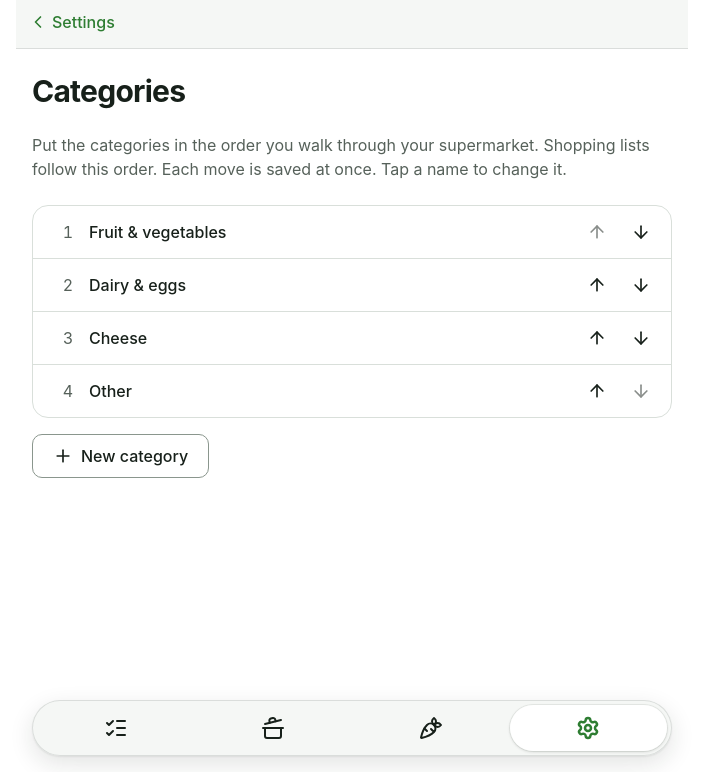
Test: AdminCategoriesScreen › puts the order back and says why when saving fails
The image size is (705, 772).
Check: the list with test id "admin-category-list" is shown, box [32, 205, 672, 418]
Click the button named "Move Other up" at point(597, 391), box [575, 369, 619, 413]
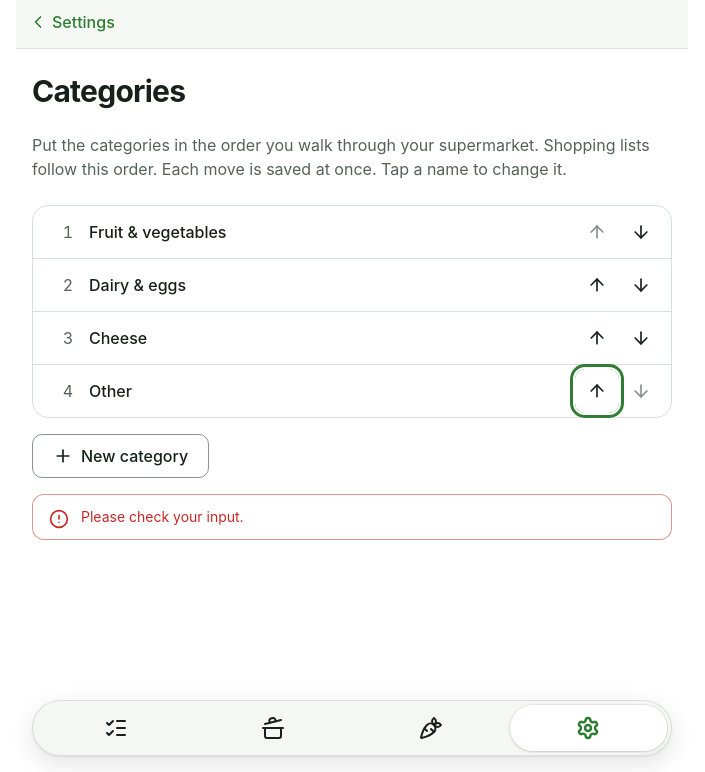
Check: the text "Please check your input." is shown, box [81, 508, 244, 525]
